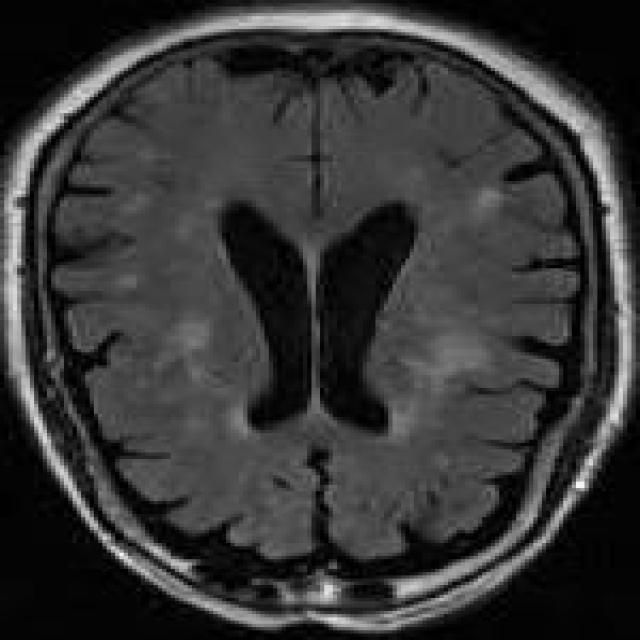notumor: (4, 10, 631, 630)
